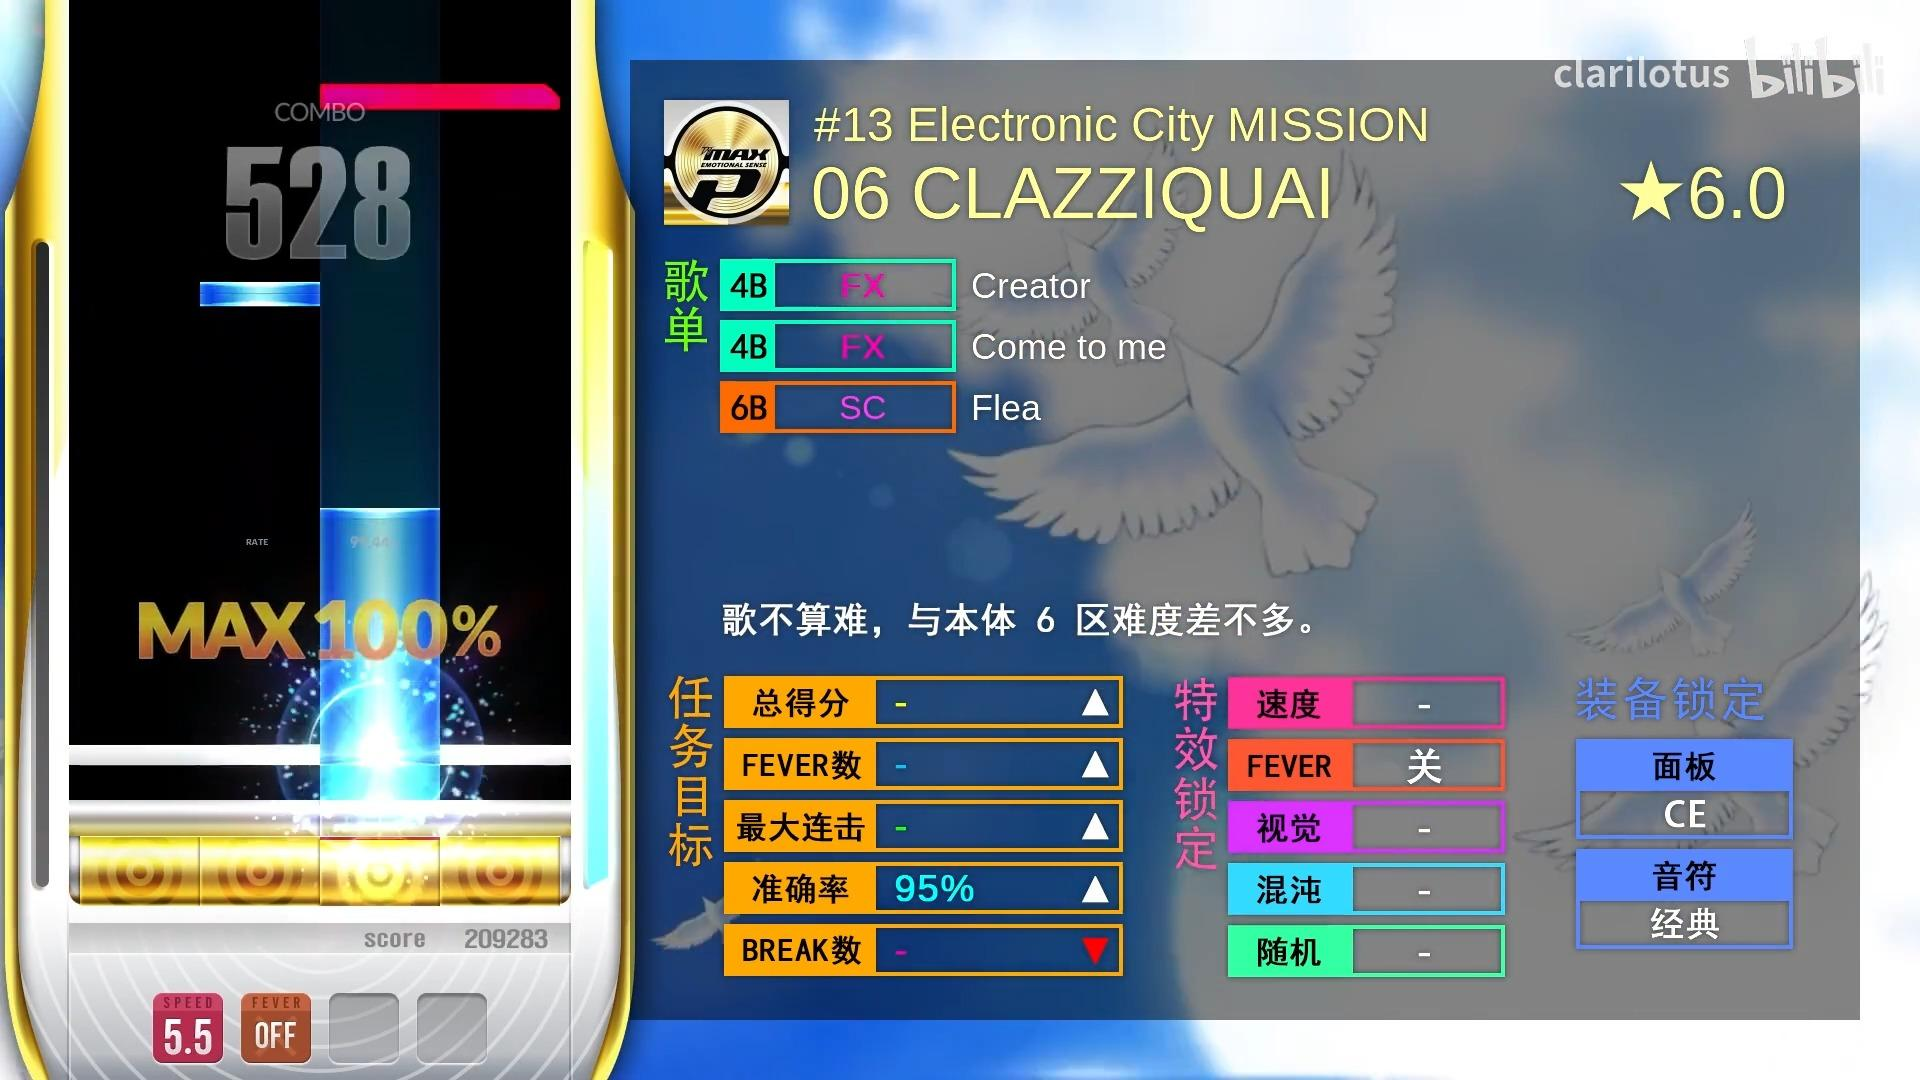hold-end: (319, 508, 442, 534)
note: (199, 282, 320, 307)
xnote: (319, 84, 560, 109)
